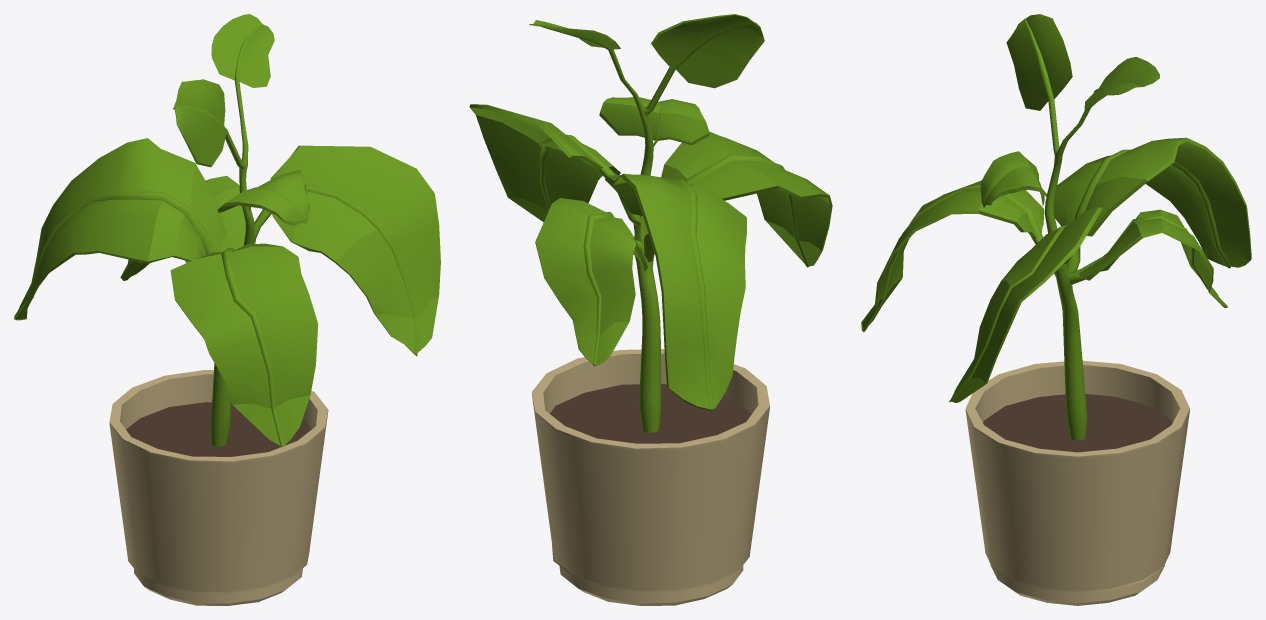
The model's file is planta.glb.
The picture shows the model from 3 angles, left to right: view 1: azimuth 30°, elevation 25°; view 2: azimuth 150°, elevation 25°; view 3: azimuth 270°, elevation 25°; orthographic projection. The views are drawn at different scales.
Parts seen in each view (by area): view 1: sweep13; view 2: sweep13; view 3: sweep13.
Boxes of the visible parts, <box> form: sweep13: <box>14,14,440,605</box>; sweep13: <box>469,14,832,605</box>; sweep13: <box>861,14,1251,605</box>.
Size of the model in its own units: 0.8155 by 1.24 by 0.831.
